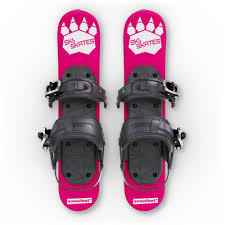skis: (46, 8, 180, 214)
